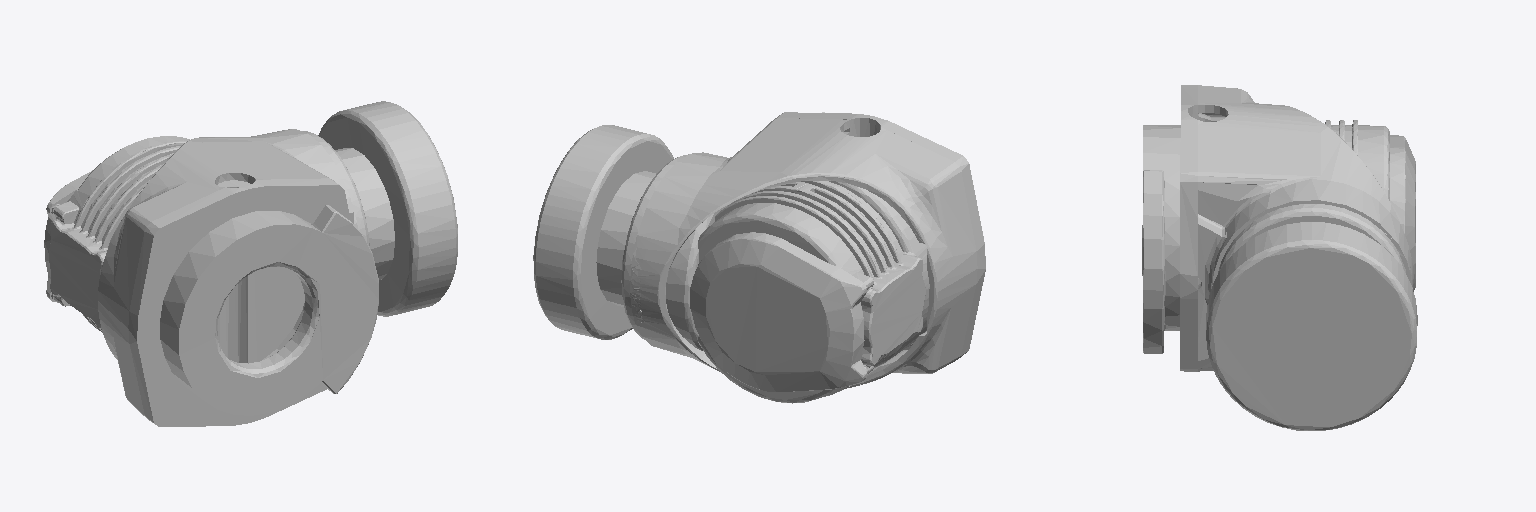
The model's file is rear_right_hip.obj.
3 views of the same model, side by side, from view 1: azimuth 30°, elevation 25°; view 2: azimuth 150°, elevation 25°; view 3: azimuth 270°, elevation 25° (orthographic).
Visible parts, largest first — view 1: rear_right_hip; view 2: rear_right_hip; view 3: rear_right_hip.
Boxes of the visible parts, box(x1,y1,x2,y2) form: rear_right_hip: box(44, 101, 457, 426); rear_right_hip: box(533, 112, 985, 403); rear_right_hip: box(1142, 85, 1417, 430).
Bounding box in the file's own units: 0.1417 × 0.0941 × 0.1001.